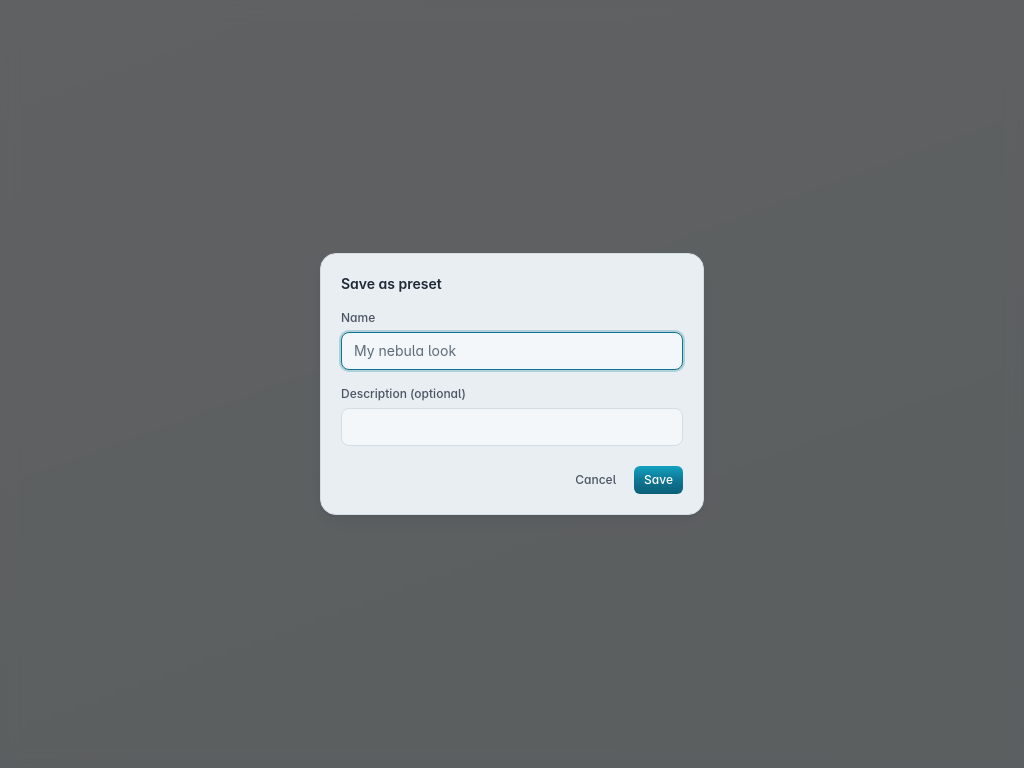
SavePresetDialog › validates that a name is entered
Click the button "Save". click: coordinates (659, 480)
box: [634,466,683,494]
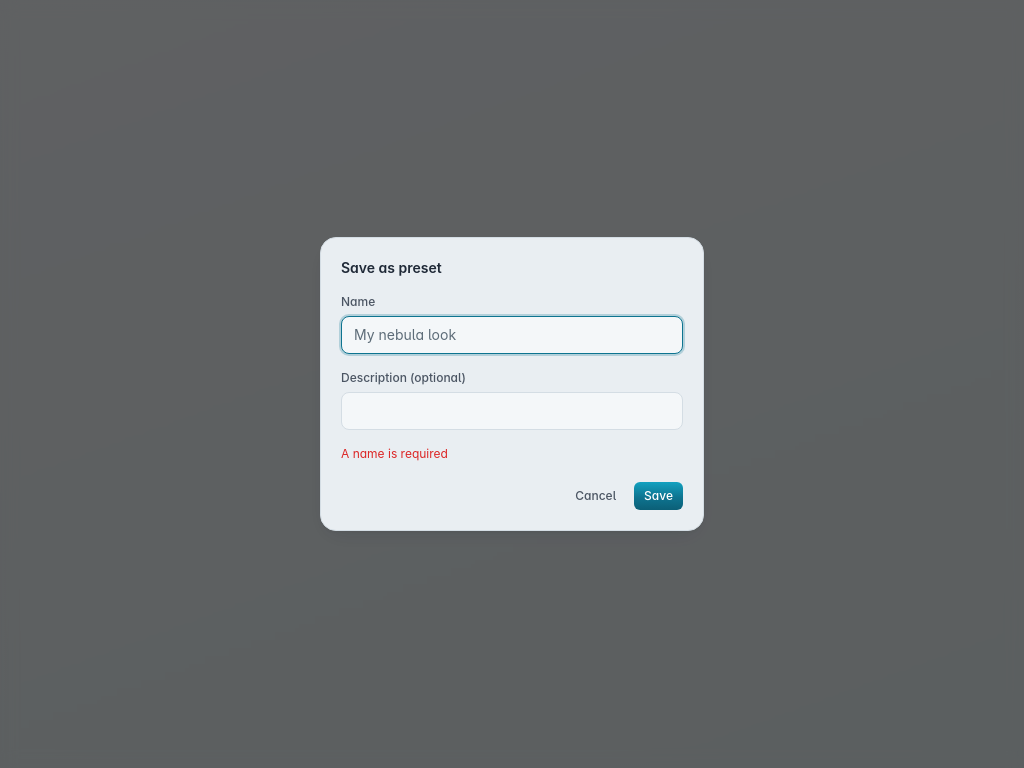
expect the text "A name is required" is shown: met, box [341,446,448,461]
